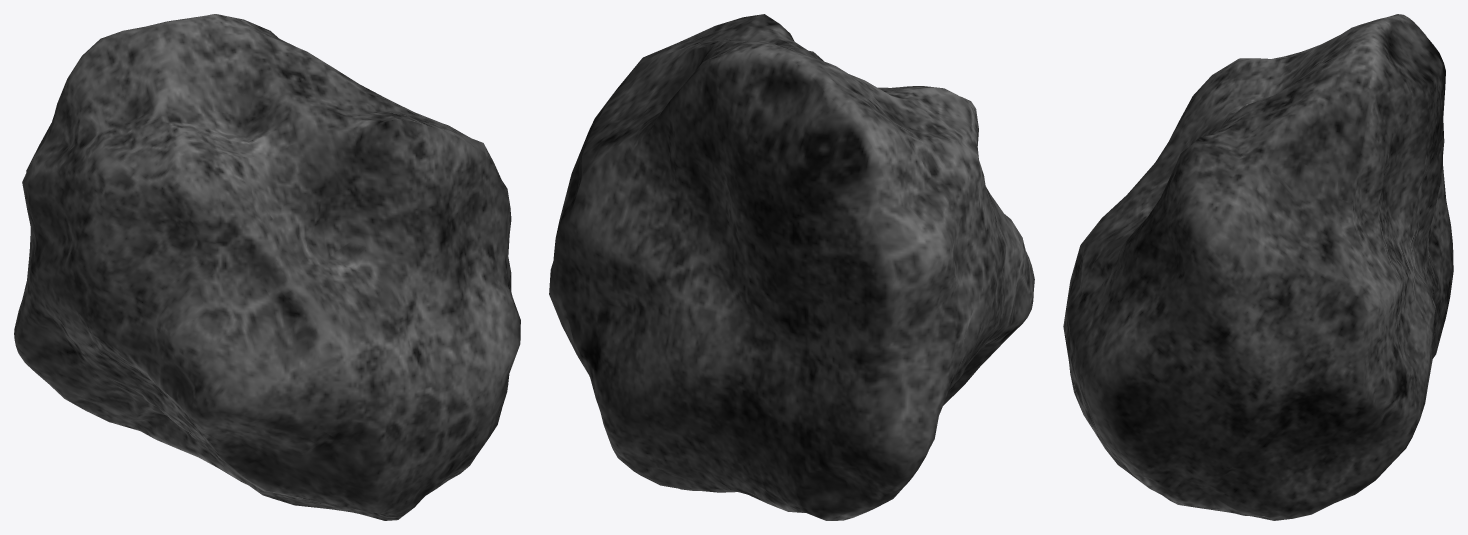
3 views of the same model, side by side, from view 1: azimuth 30°, elevation 25°; view 2: azimuth 150°, elevation 25°; view 3: azimuth 270°, elevation 25° (orthographic). The views are drawn at different scales.
Visible parts, largest first — view 1: Asteroid_no_4_Material #3_0; view 2: Asteroid_no_4_Material #3_0; view 3: Asteroid_no_4_Material #3_0.
Boxes of the visible parts, bbox=[...] form: Asteroid_no_4_Material #3_0: bbox=[14, 14, 520, 520]; Asteroid_no_4_Material #3_0: bbox=[549, 14, 1034, 520]; Asteroid_no_4_Material #3_0: bbox=[1063, 14, 1453, 520].
Size of the model in its own units: 7.91 by 8.32 by 6.99.
Materials: 1 (1 with a texture image).
